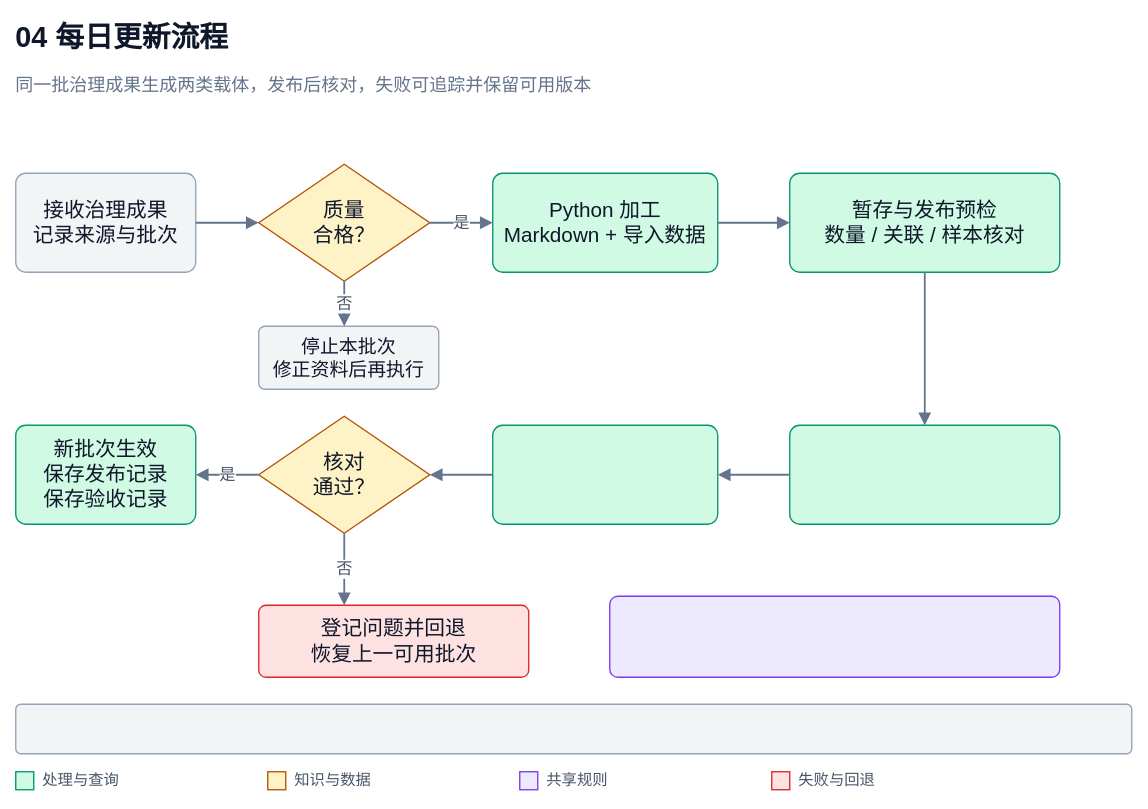
Image size: 1148x809. Some labels were removed from this diagram. The shapes that lost their labels are listed below. From the top down, each one's centre as x and y in pixels, then its label:
At point (605, 474): "发布后核对 检索与 SQL 代表性问答".
At point (924, 474): "受控发布 知识库与数据库".
At point (834, 636): "发布护栏 预检失败不切换；同批次幂等处理 按现场能力选择版本切换或维护窗口".
At point (573, 728): "一致性边界：不假设知识库与数据库支持同一事务；单侧失败按批次清单恢复，并核对两侧状态。".
